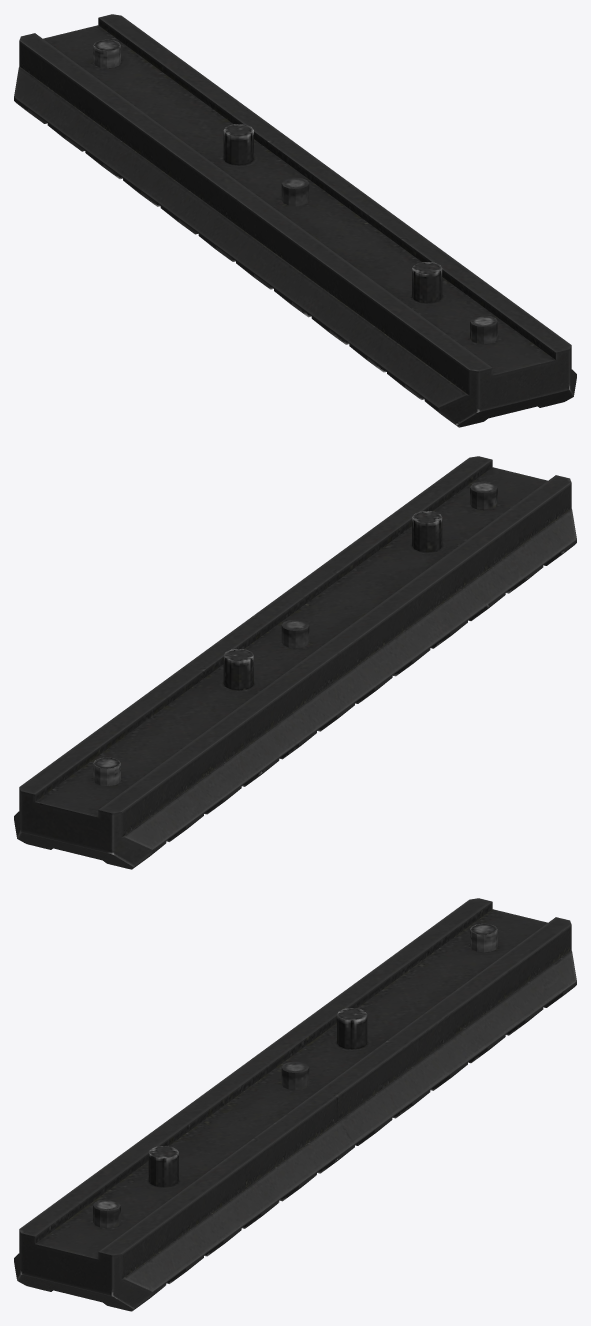
3 renders of one model, top to bottom at view 1: azimuth 30°, elevation 25°; view 2: azimuth 150°, elevation 25°; view 3: azimuth 330°, elevation 25°, orthographic.
Visible parts, largest first — view 1: TW_673dd617912f68467c0615b6_PZ_Import; view 2: TW_673dd617912f68467c0615b6_PZ_Import; view 3: TW_673dd617912f68467c0615b6_PZ_Import.
Part boxes in pixels (left/top/right/bottom): TW_673dd617912f68467c0615b6_PZ_Import: left=14, top=14, right=576, bottom=427; TW_673dd617912f68467c0615b6_PZ_Import: left=14, top=456, right=576, bottom=869; TW_673dd617912f68467c0615b6_PZ_Import: left=14, top=898, right=576, bottom=1311.
Size of the model in its own units: 0.0123 by 0.0702 by 0.00716.
Materials: 1 (1 with a texture image).
